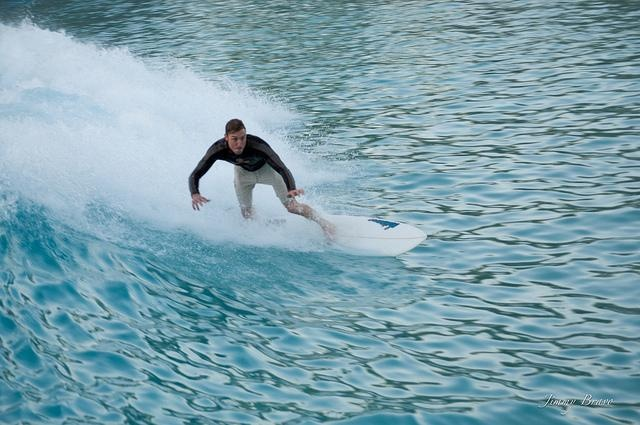person: (186, 118, 337, 244)
